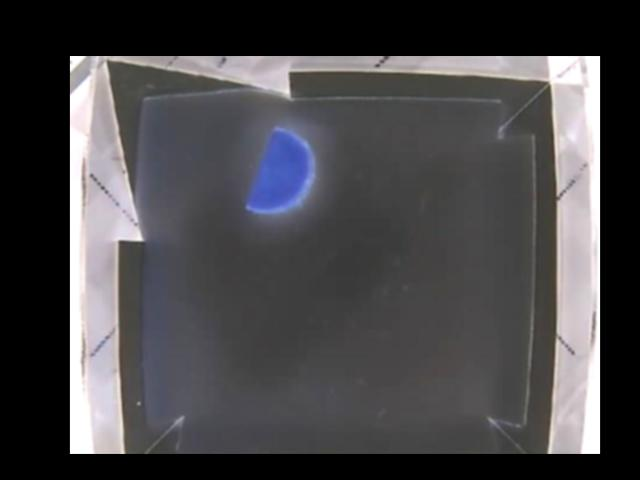Potato: (246, 127, 312, 213)
